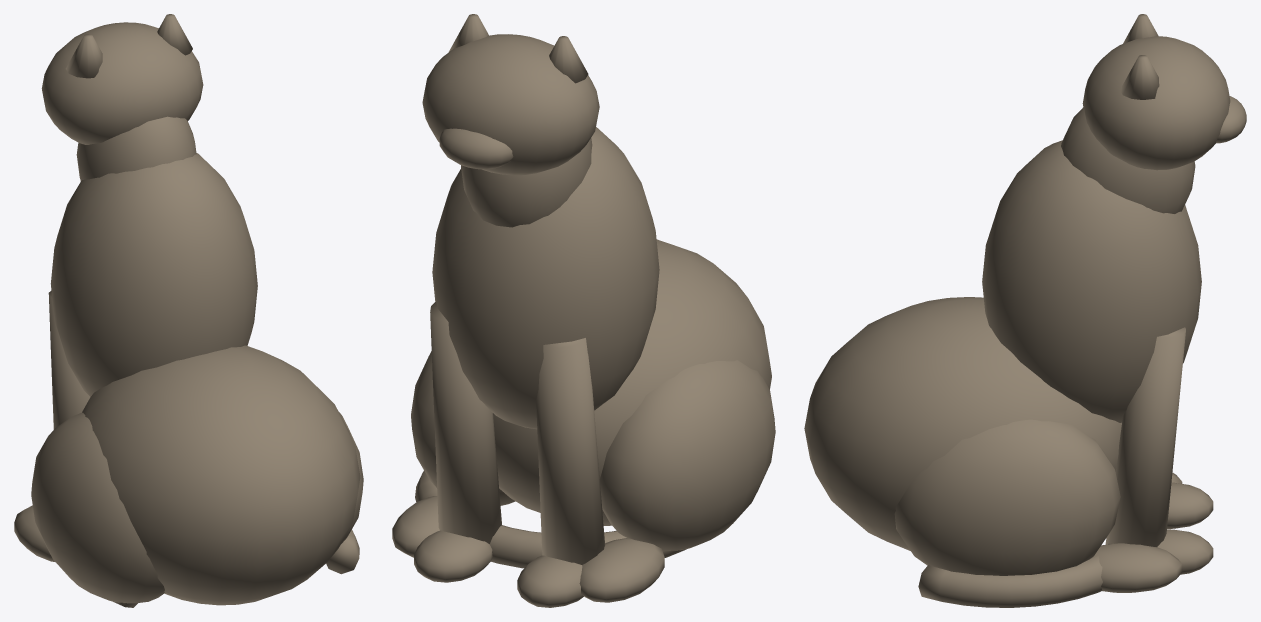
Rendered from Panther.fbx.
The picture shows the model from 3 angles, left to right: view 1: azimuth 30°, elevation 25°; view 2: azimuth 150°, elevation 25°; view 3: azimuth 270°, elevation 25°; orthographic projection. The views are drawn at different scales.
Visible parts, largest first — view 1: Body.009; view 2: Body.009; view 3: Body.009.
Part boxes in pixels (x1=…): Body.009: x1=14, y1=14, x2=363, y2=607; Body.009: x1=392, y1=14, x2=775, y2=607; Body.009: x1=804, y1=14, x2=1246, y2=607.
Bounding box in the file's own units: 1.47 × 2.44 × 1.91.
